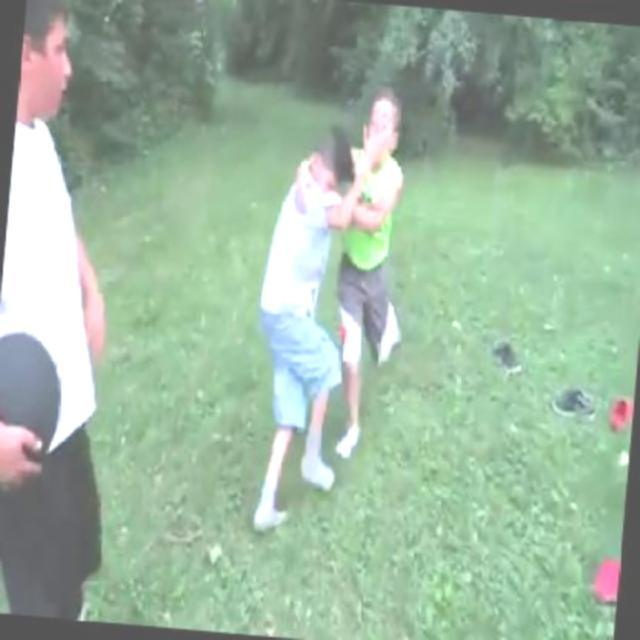fight: (240, 78, 420, 540)
